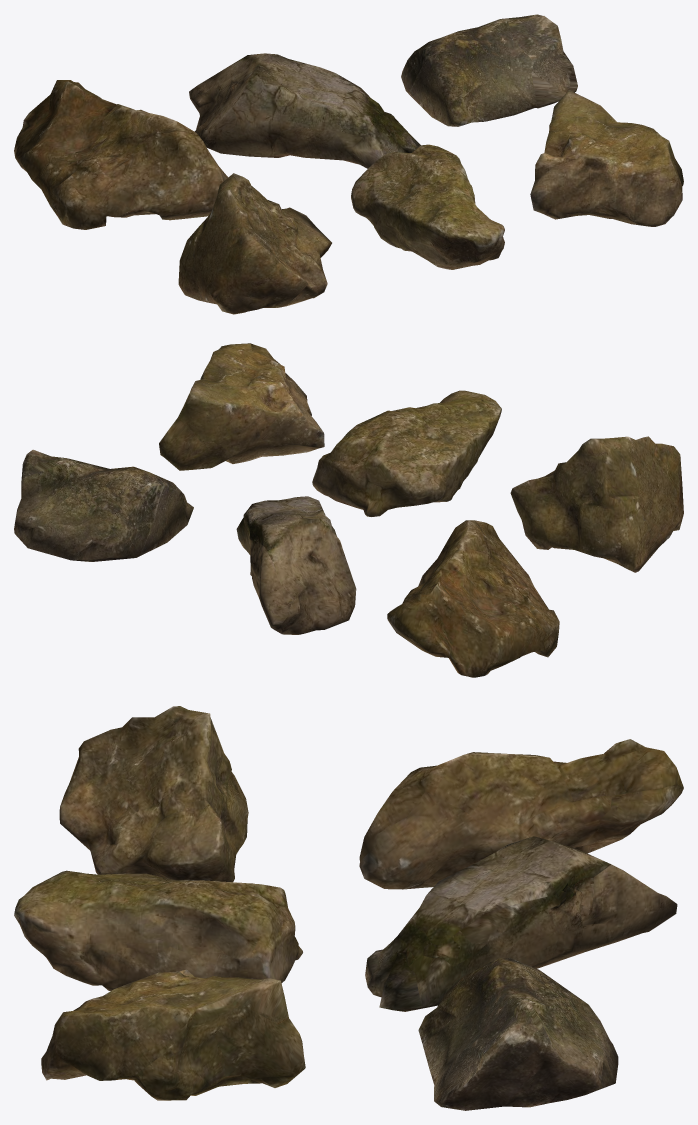
File: rock_moss_set_01_rt.gltf
3 views of the same model, one above another, from view 1: azimuth 30°, elevation 25°; view 2: azimuth 150°, elevation 25°; view 3: azimuth 270°, elevation 25° (orthographic). The views are drawn at different scales.
Parts seen in each view (by area): view 1: rock_moss_set_01_rock01, rock_moss_set_01_rock02, rock_moss_set_01_rock06, rock_moss_set_01_rock04, rock_moss_set_01_rock03, rock_moss_set_01_rock05; view 2: rock_moss_set_01_rock04, rock_moss_set_01_rock01, rock_moss_set_01_rock05, rock_moss_set_01_rock03, rock_moss_set_01_rock06, rock_moss_set_01_rock02; view 3: rock_moss_set_01_rock01, rock_moss_set_01_rock02, rock_moss_set_01_rock05, rock_moss_set_01_rock04, rock_moss_set_01_rock06, rock_moss_set_01_rock03.
Boxes of the visible parts, x1,y1,x2,y2 form: rock_moss_set_01_rock01: (14, 80, 227, 229); rock_moss_set_01_rock02: (189, 53, 420, 168); rock_moss_set_01_rock06: (530, 90, 683, 226); rock_moss_set_01_rock04: (178, 173, 331, 314); rock_moss_set_01_rock03: (401, 14, 577, 126); rock_moss_set_01_rock05: (351, 144, 504, 269); rock_moss_set_01_rock04: (510, 436, 683, 572); rock_moss_set_01_rock01: (387, 520, 559, 677); rock_moss_set_01_rock05: (312, 390, 501, 516); rock_moss_set_01_rock03: (14, 449, 193, 561); rock_moss_set_01_rock06: (159, 343, 324, 470); rock_moss_set_01_rock02: (236, 496, 356, 634); rock_moss_set_01_rock01: (359, 739, 683, 889); rock_moss_set_01_rock02: (365, 836, 677, 1011); rock_moss_set_01_rock05: (14, 870, 302, 990); rock_moss_set_01_rock04: (59, 706, 248, 882); rock_moss_set_01_rock06: (41, 969, 305, 1100); rock_moss_set_01_rock03: (418, 958, 618, 1110).
Bounding box in the file's own units: 8 × 1.76 × 6.94.
Materials: 1 (1 with a texture image).
